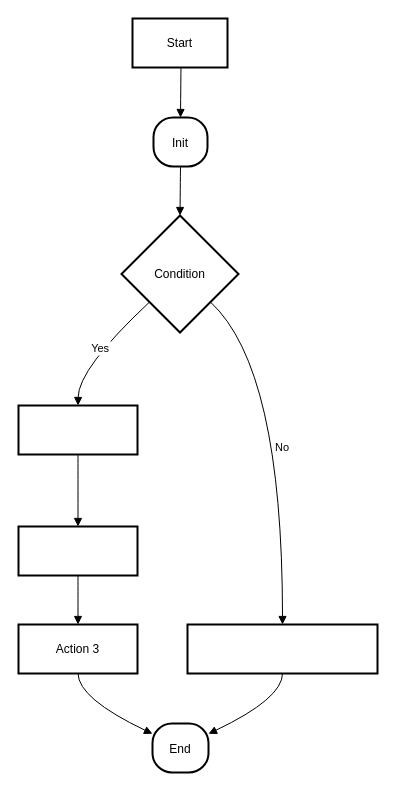
Image size: 395x790. Some labels were removed from this diagram. Each missing label, with the centre of its shape:
"Action 1" goes at [77,429].
"Action 2" goes at [77,550].
"Alternative Action" goes at [282,648].
